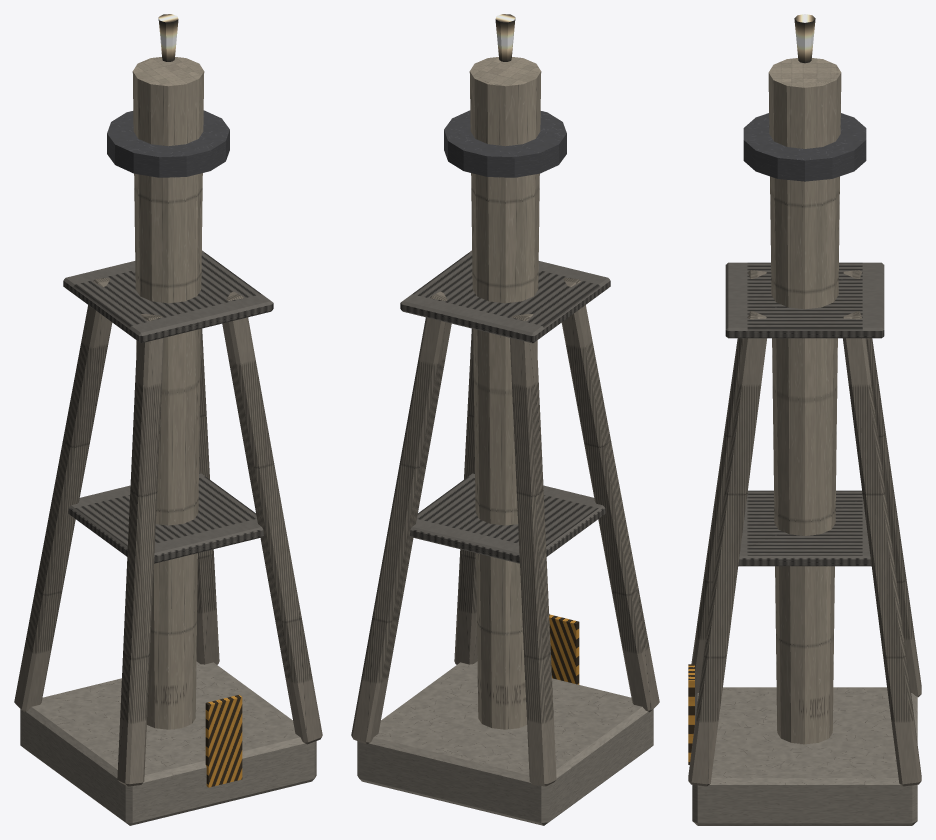
The model's file is cap_tower.obj.
3 views of the same model, side by side, from view 1: azimuth 30°, elevation 25°; view 2: azimuth 150°, elevation 25°; view 3: azimuth 270°, elevation 25° (orthographic). The views are drawn at different scales.
Parts seen in each view (by area): view 1: cap_tower; view 2: cap_tower; view 3: cap_tower.
Part boxes in pixels (x1=…): cap_tower: x1=14, y1=14, x2=322, y2=825; cap_tower: x1=351, y1=14, x2=659, y2=825; cap_tower: x1=688, y1=14, x2=921, y2=825.
Bounding box in the file's own units: 3.52 × 12.7 × 3.52.
Materials: 1 (1 with a texture image).
